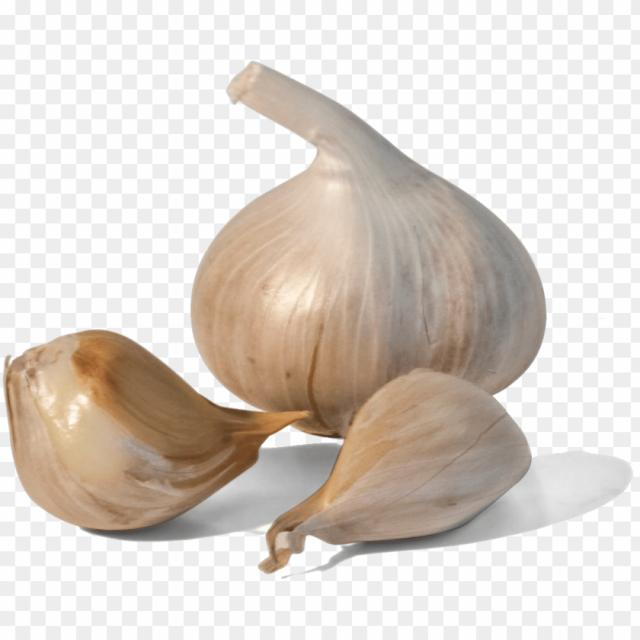garlic: (190, 145, 552, 447)
